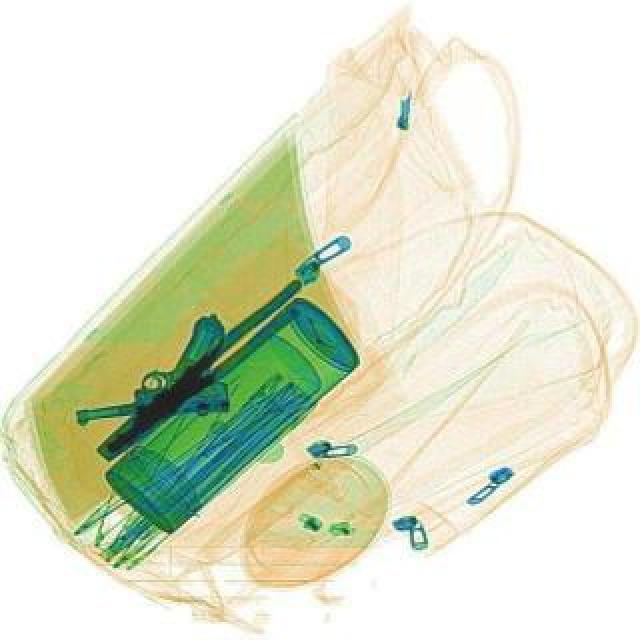gun: (64, 312, 234, 428)
wrench: (88, 274, 318, 466)
